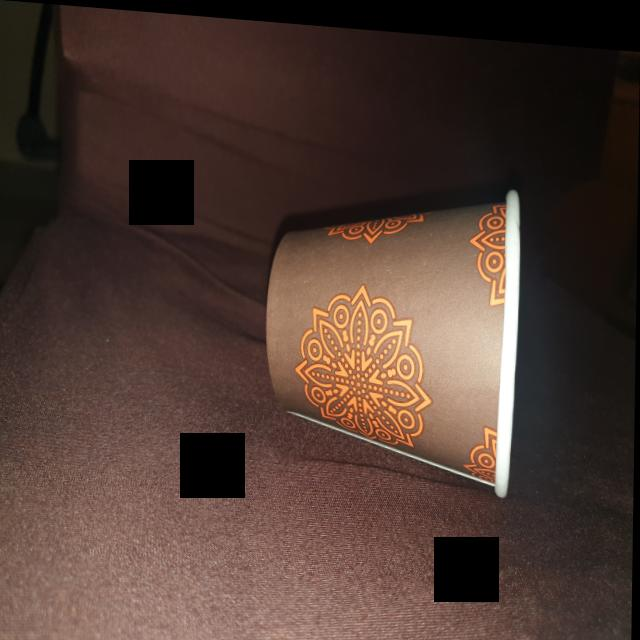cups: (257, 158, 531, 498)
